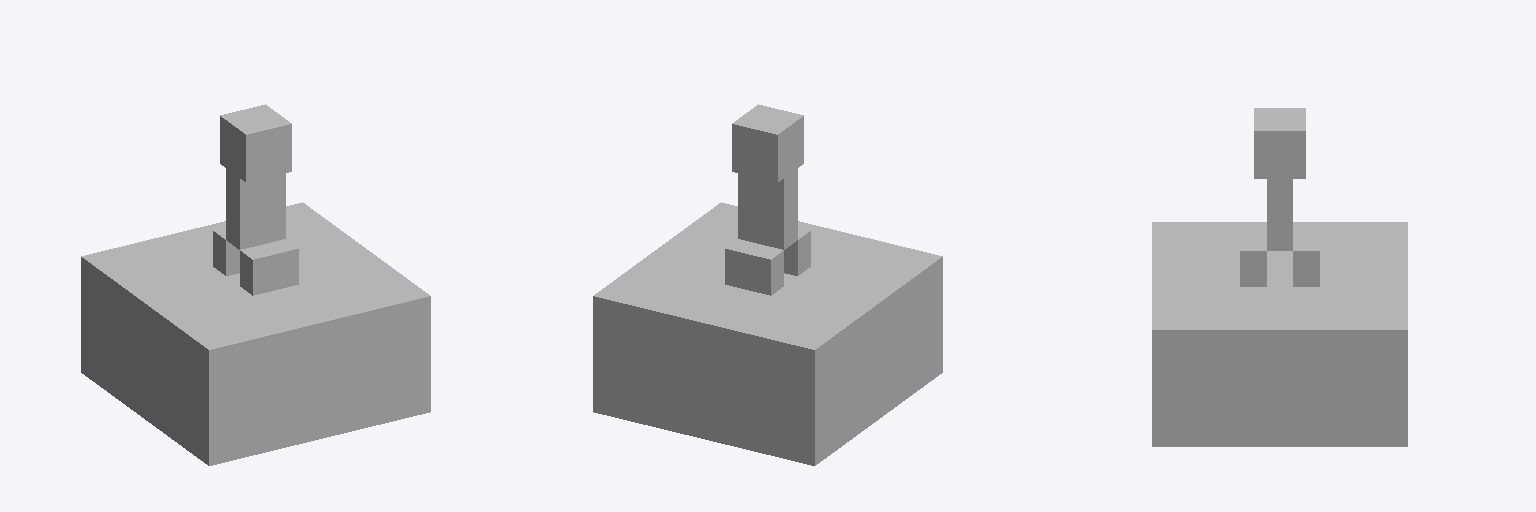
Rendered from creeper.obj.
3 views of the same model, side by side, from view 1: azimuth 30°, elevation 25°; view 2: azimuth 150°, elevation 25°; view 3: azimuth 270°, elevation 25° (orthographic).
Parts seen in each view (by area): view 1: Cube.001, Creeper_Cube.002; view 2: Cube.001, Creeper_Cube.002; view 3: Cube.001, Creeper_Cube.002.
Boxes of the visible parts, <box> form: Cube.001: <box>81,202,430,465</box>; Creeper_Cube.002: <box>213,104,298,295</box>; Cube.001: <box>593,202,942,465</box>; Creeper_Cube.002: <box>725,104,810,295</box>; Cube.001: <box>1152,222,1407,446</box>; Creeper_Cube.002: <box>1240,108,1319,286</box>.
Bounding box in the file's own units: 3.2 × 3.76 × 3.2.